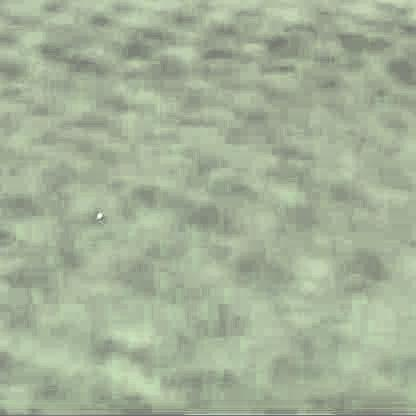golfball: (95, 210, 102, 217)
